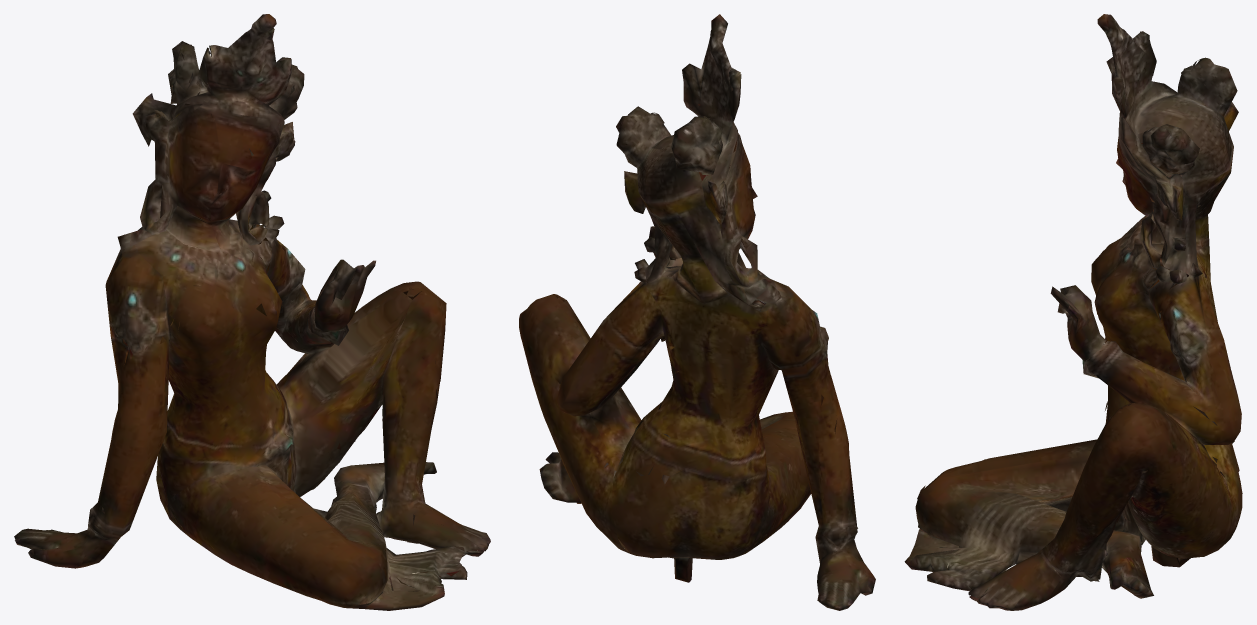
The model's file is goddess-uma-lo.glb.
3 views of the same model, side by side, from view 1: azimuth 30°, elevation 25°; view 2: azimuth 150°, elevation 25°; view 3: azimuth 270°, elevation 25° (orthographic). The views are drawn at different scales.
Visible parts, largest first — view 1: Object_2, Object_3; view 2: Object_2, Object_3; view 3: Object_2, Object_3.
Boxes of the visible parts, box(x1,y1,x2,y2) form: Object_2: box(14, 14, 490, 607); Object_3: box(14, 45, 485, 610); Object_2: box(519, 14, 872, 608); Object_3: box(527, 70, 875, 610); Object_2: box(915, 14, 1242, 610); Object_3: box(904, 31, 1239, 598).
Size of the model in its own units: 0.2703 by 0.3743 by 0.2084.
Materials: 1 (1 with a texture image).
